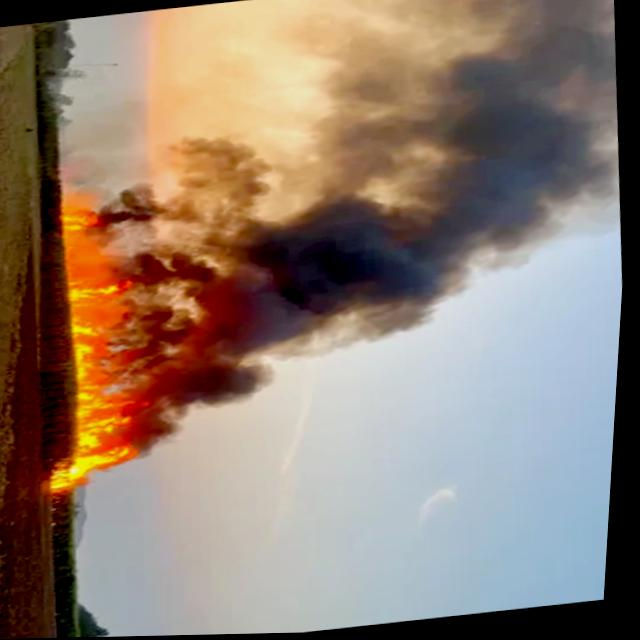no_helmet: (88, 93, 635, 460)
